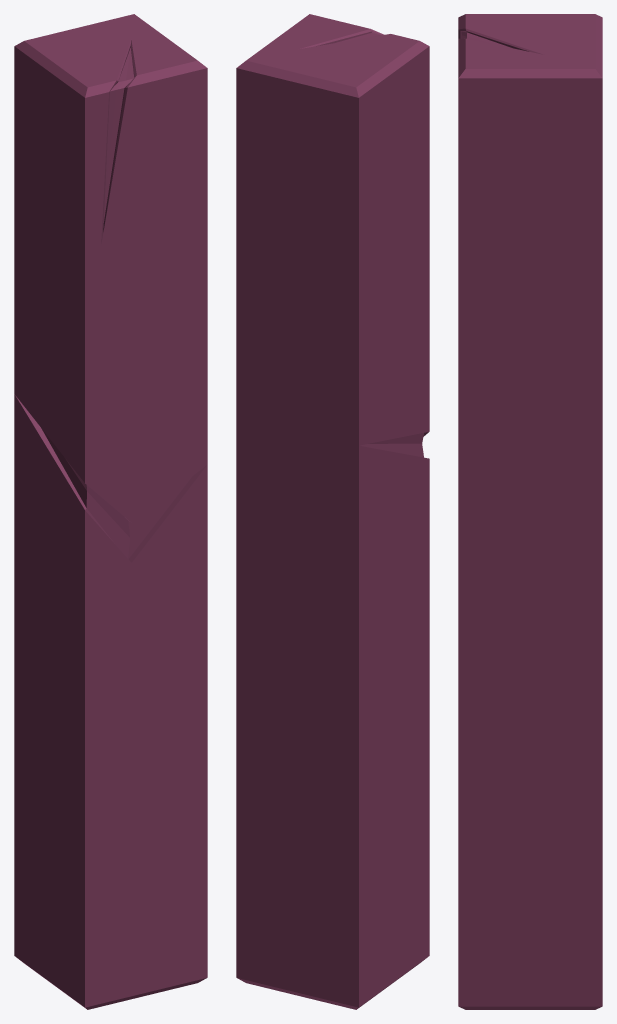
File: PillarCracked_Model_v02.fbx
3 views of the same model, side by side, from view 1: azimuth 30°, elevation 25°; view 2: azimuth 150°, elevation 25°; view 3: azimuth 270°, elevation 25° (orthographic). The views are drawn at different scales.
Visible parts, largest first — view 1: pCube1; view 2: pCube1; view 3: pCube1.
Part boxes in pixels (x1=…): pCube1: x1=14, y1=14, x2=207, y2=1009; pCube1: x1=236, y1=14, x2=429, y2=1009; pCube1: x1=458, y1=14, x2=602, y2=1009.
Bounding box in the file's own units: 50 × 360 × 50.
1 material, 1 textured.
